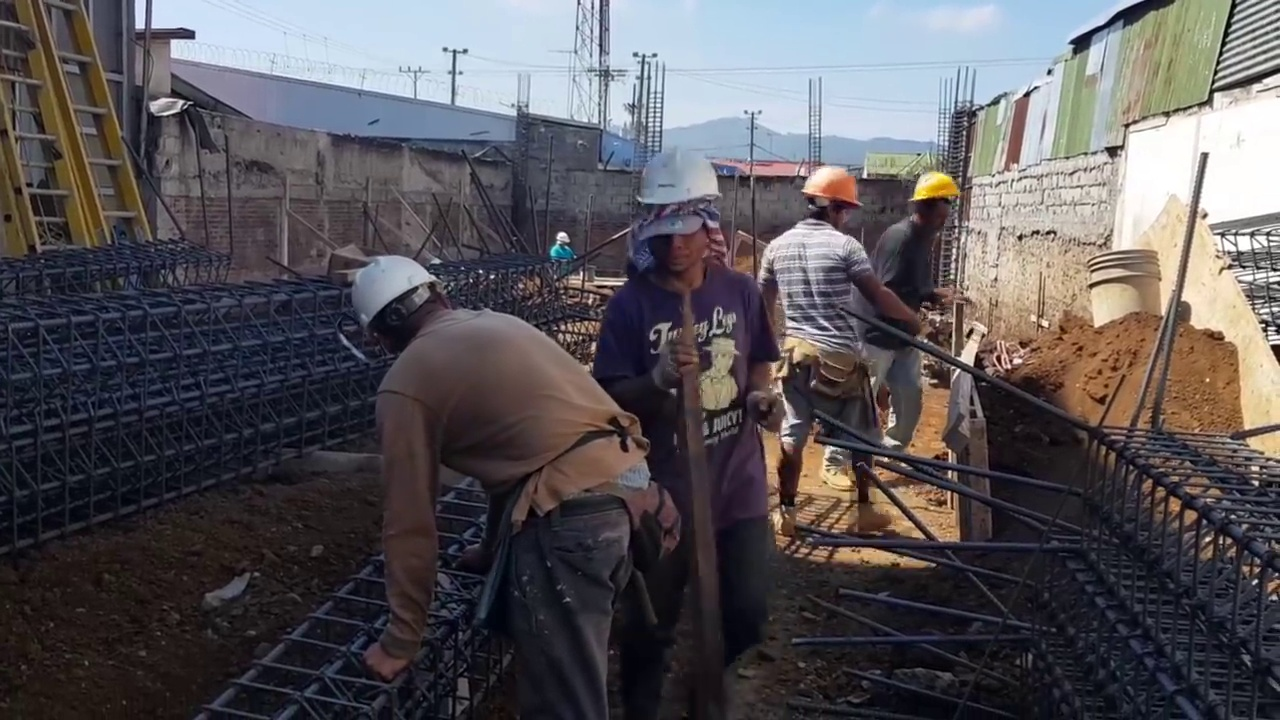helmet: (342, 259, 442, 346), (624, 146, 725, 216), (802, 168, 864, 209), (910, 173, 963, 205), (555, 233, 570, 245)
helmet-on: (623, 145, 726, 296), (340, 256, 453, 354), (803, 169, 866, 234), (907, 172, 964, 233), (554, 233, 571, 250)
person: (341, 255, 669, 714), (590, 145, 782, 654), (757, 165, 920, 528), (821, 174, 963, 494), (549, 234, 576, 274)
